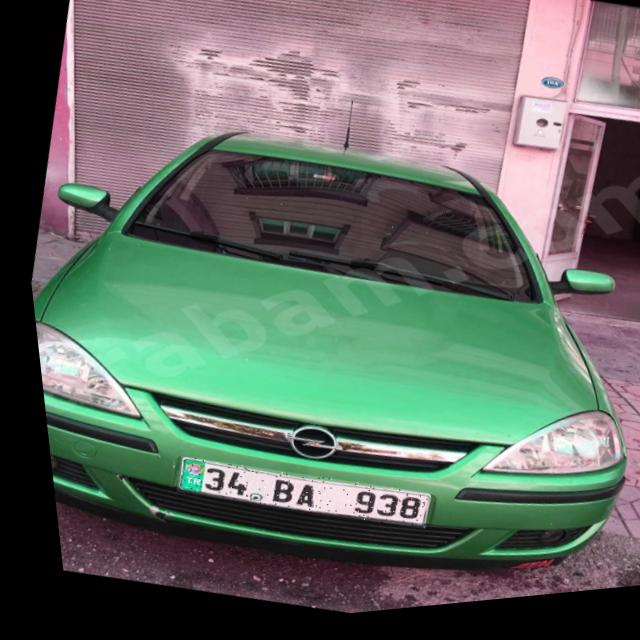license_plate: (161, 440, 421, 554)
